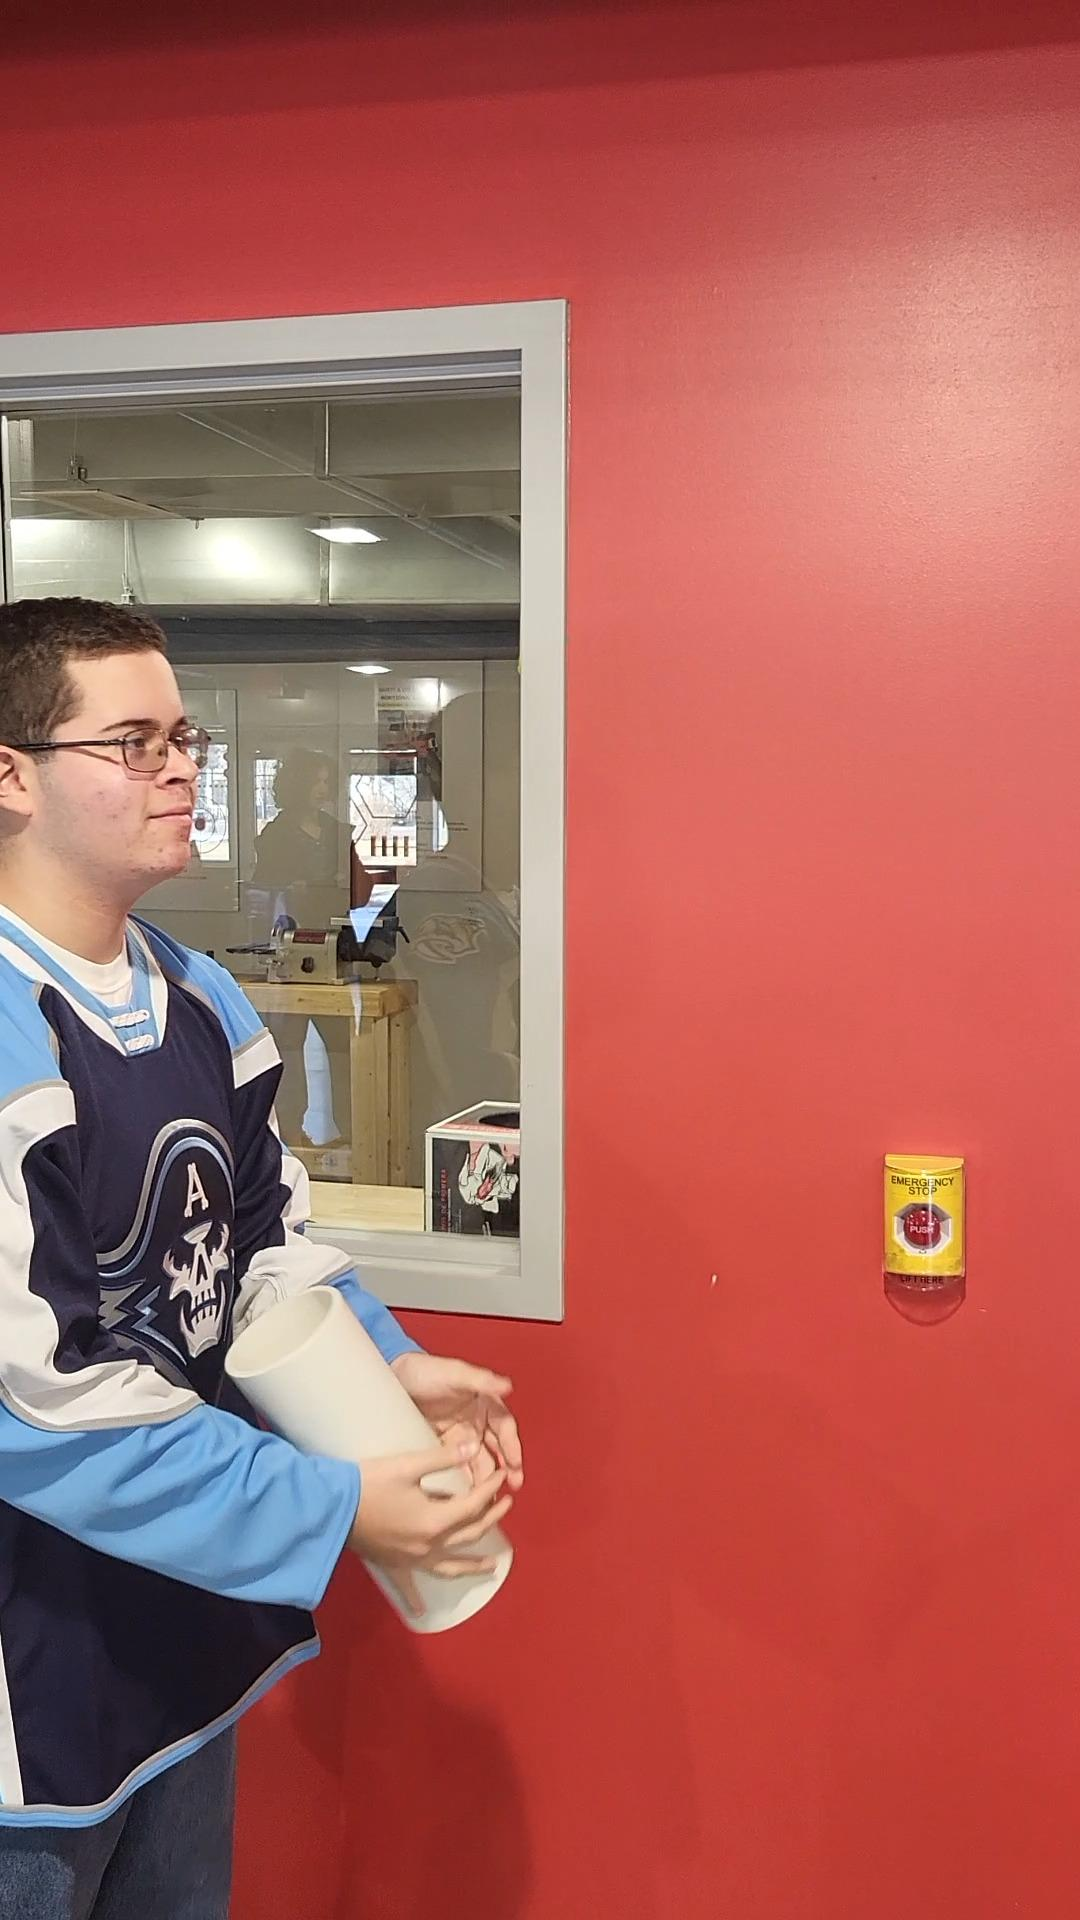coral: (229, 1280, 517, 1650)
